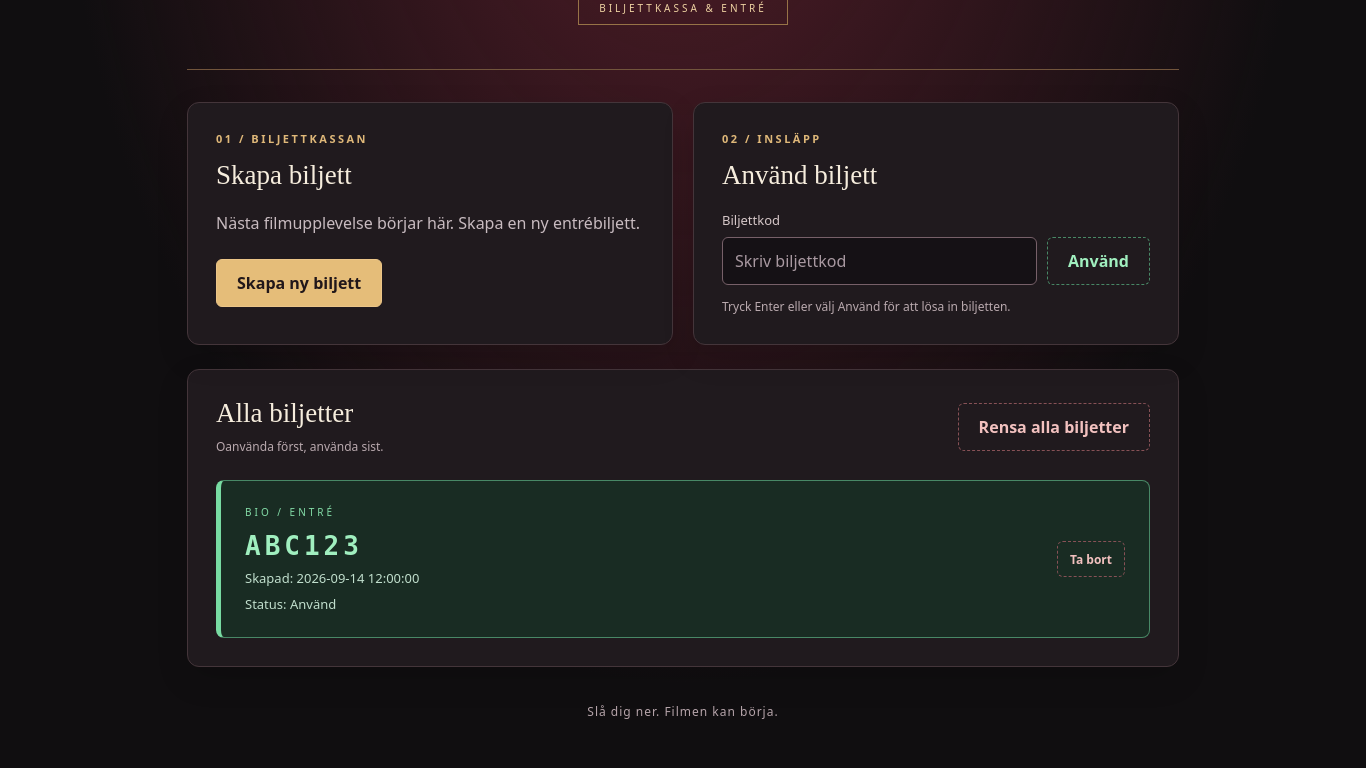
Test: Ticket system › should require confirmation to delete a used ticket: true
The image size is (1366, 768).
(page scrolled)
Click the button "Ta bort" at (1091, 559), box left=1057, top=541, right=1125, bottom=577
(page scrolled)
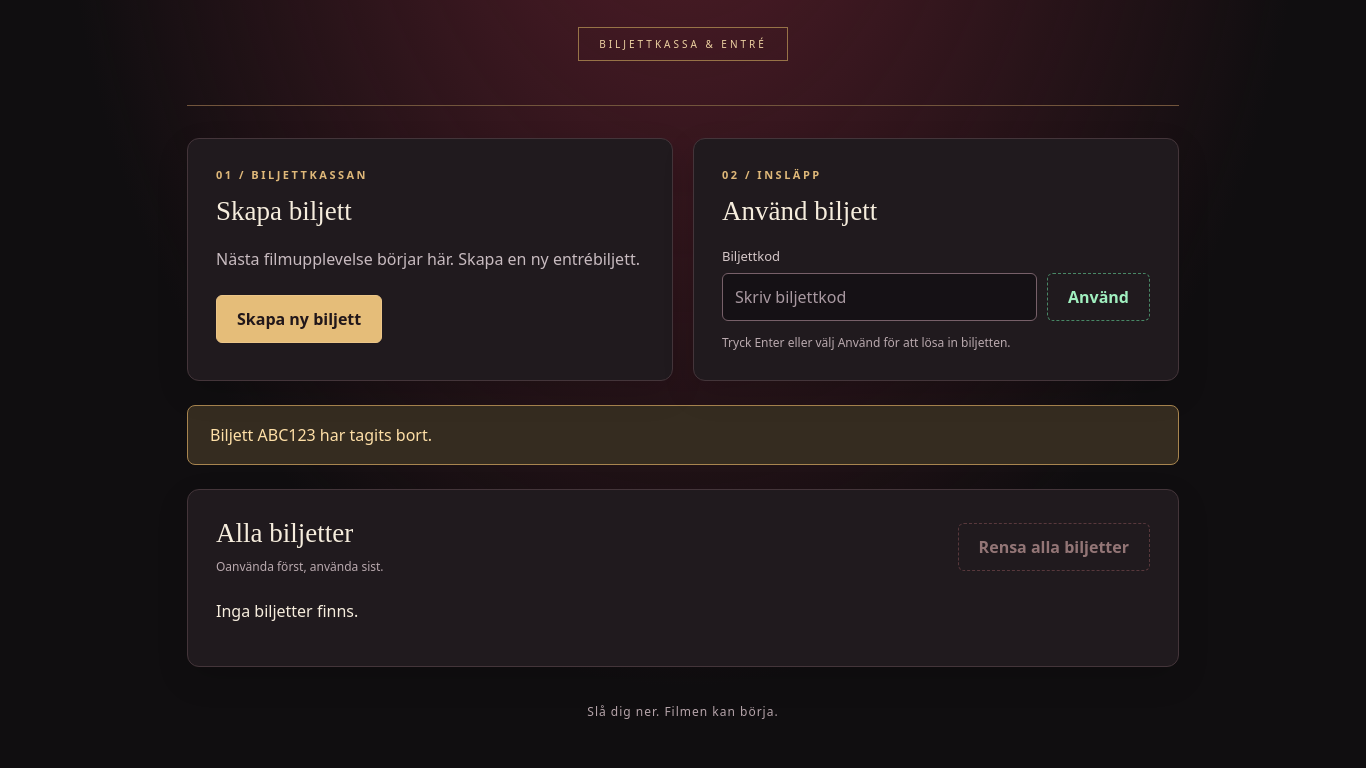
Check: the text "Inga biljetter finns." is shown, box left=216, top=600, right=358, bottom=622
